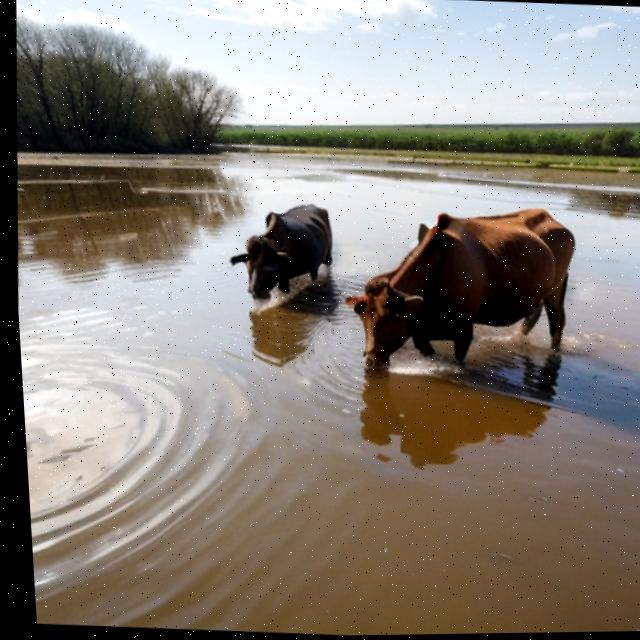cow: (331, 184, 592, 399), (214, 190, 349, 312)
